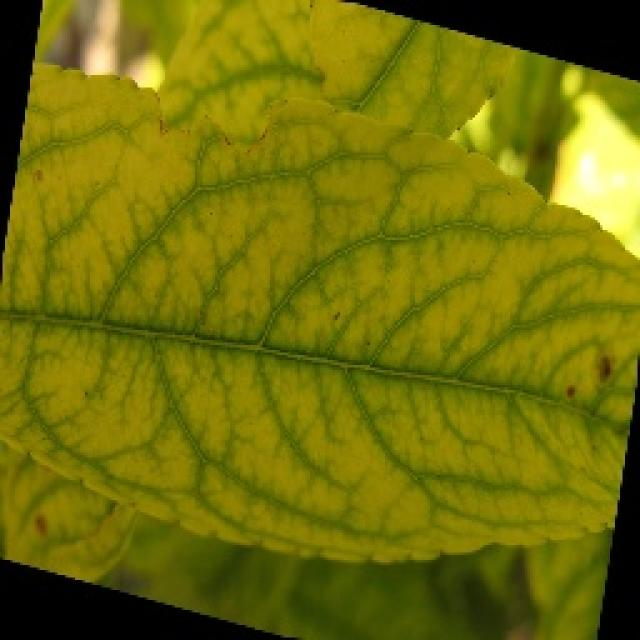Chlorosis: (30, 48, 640, 558)
